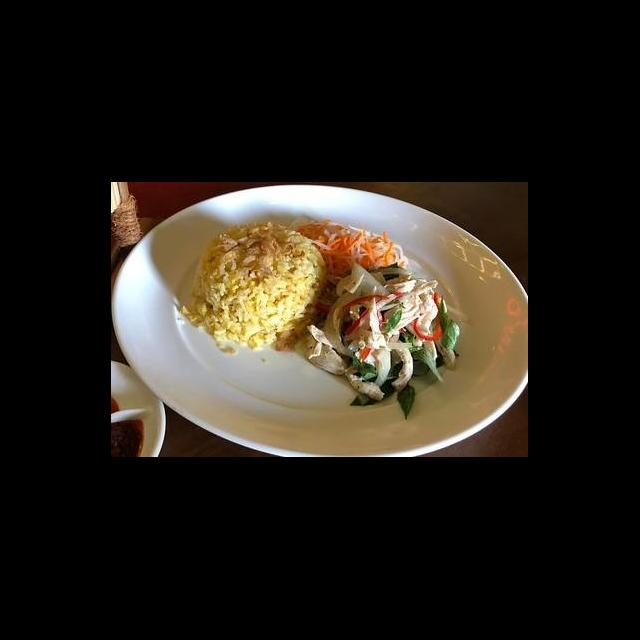com: (175, 220, 328, 358)
com ga: (158, 200, 478, 458)
rau ram: (348, 352, 422, 424), (392, 327, 448, 388), (436, 294, 464, 360)
thit ga: (302, 263, 464, 402)
